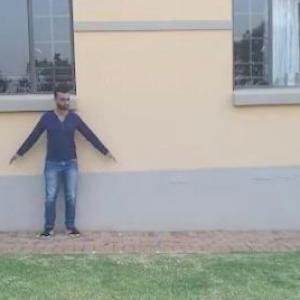land: (8, 87, 114, 250)
